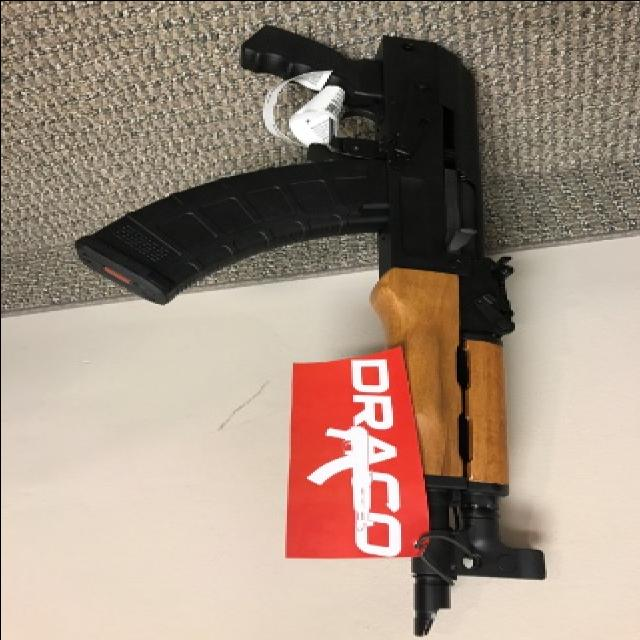rifle: (81, 33, 563, 640)
